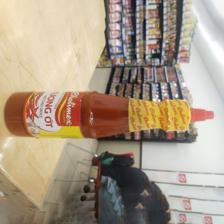Tuong: (2, 88, 214, 138)
